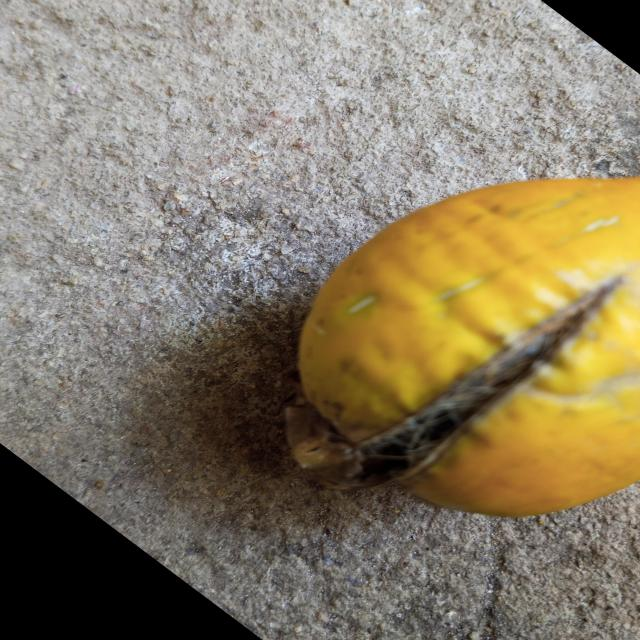damaged: (296, 176, 640, 520)
